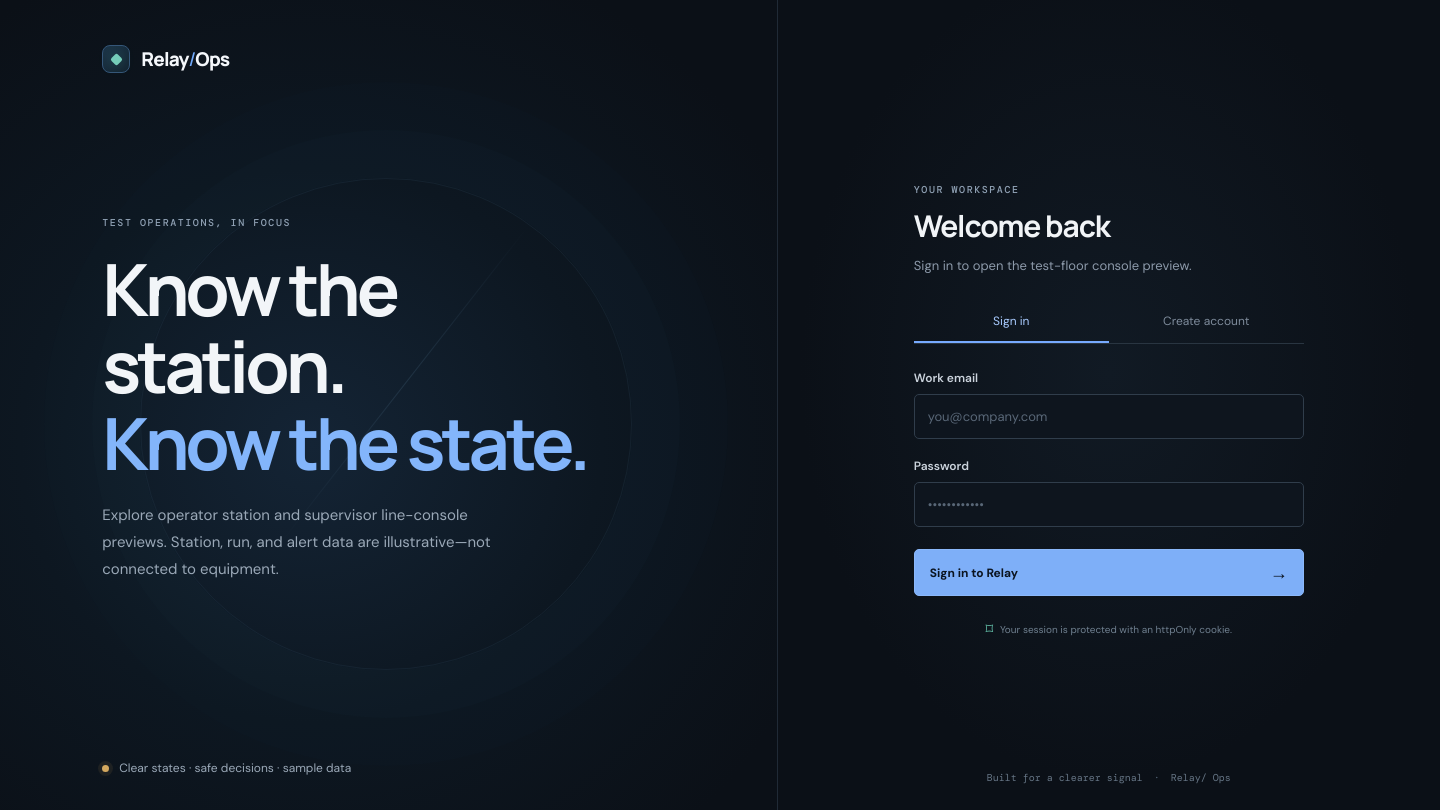
Test: shows deliberate login errors
In the field labelled "Work email": (1109, 416) [914,394,1304,439], type "ops@example.com"
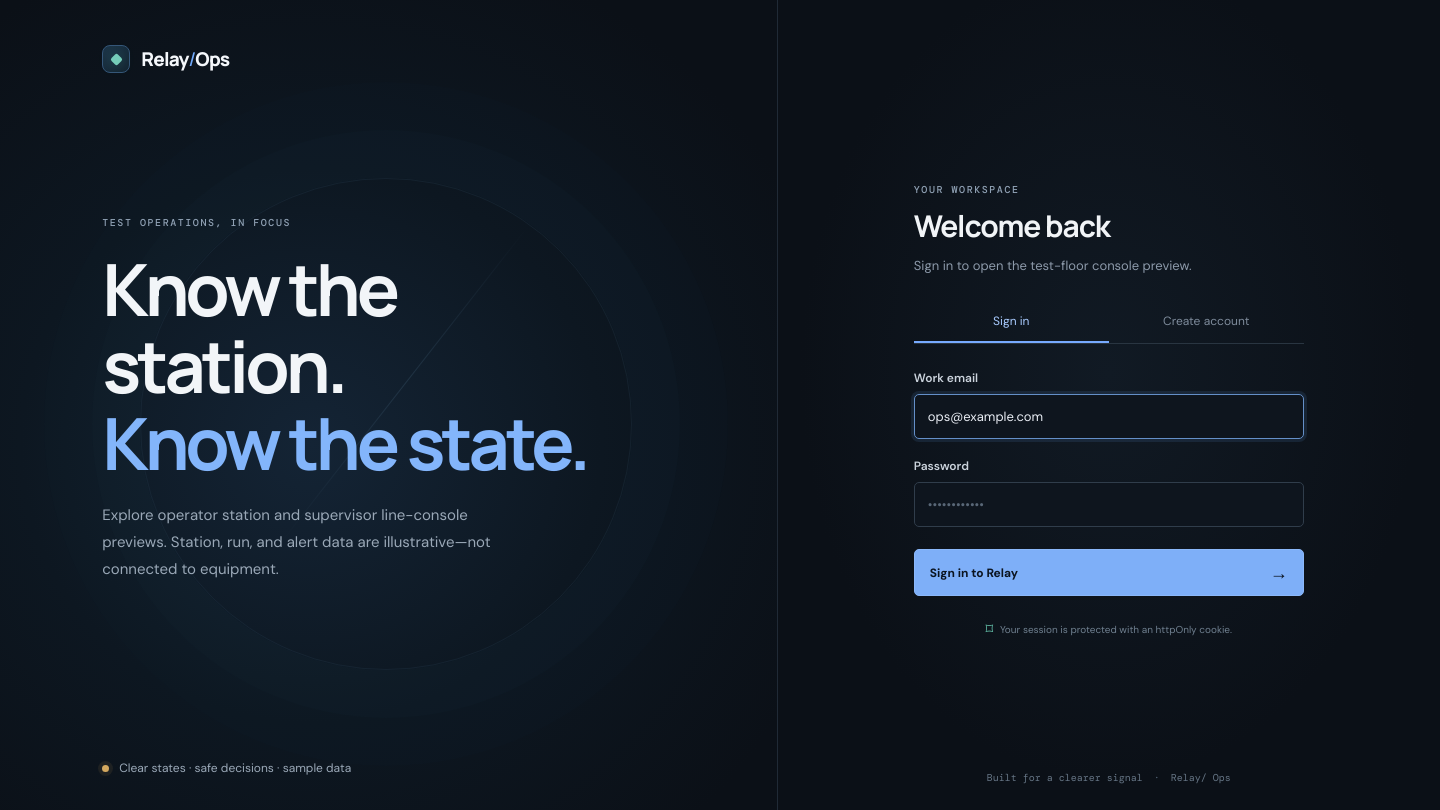
In the password field labelled "Password": (1109, 504) [914,482,1304,527], type "wrong-password"
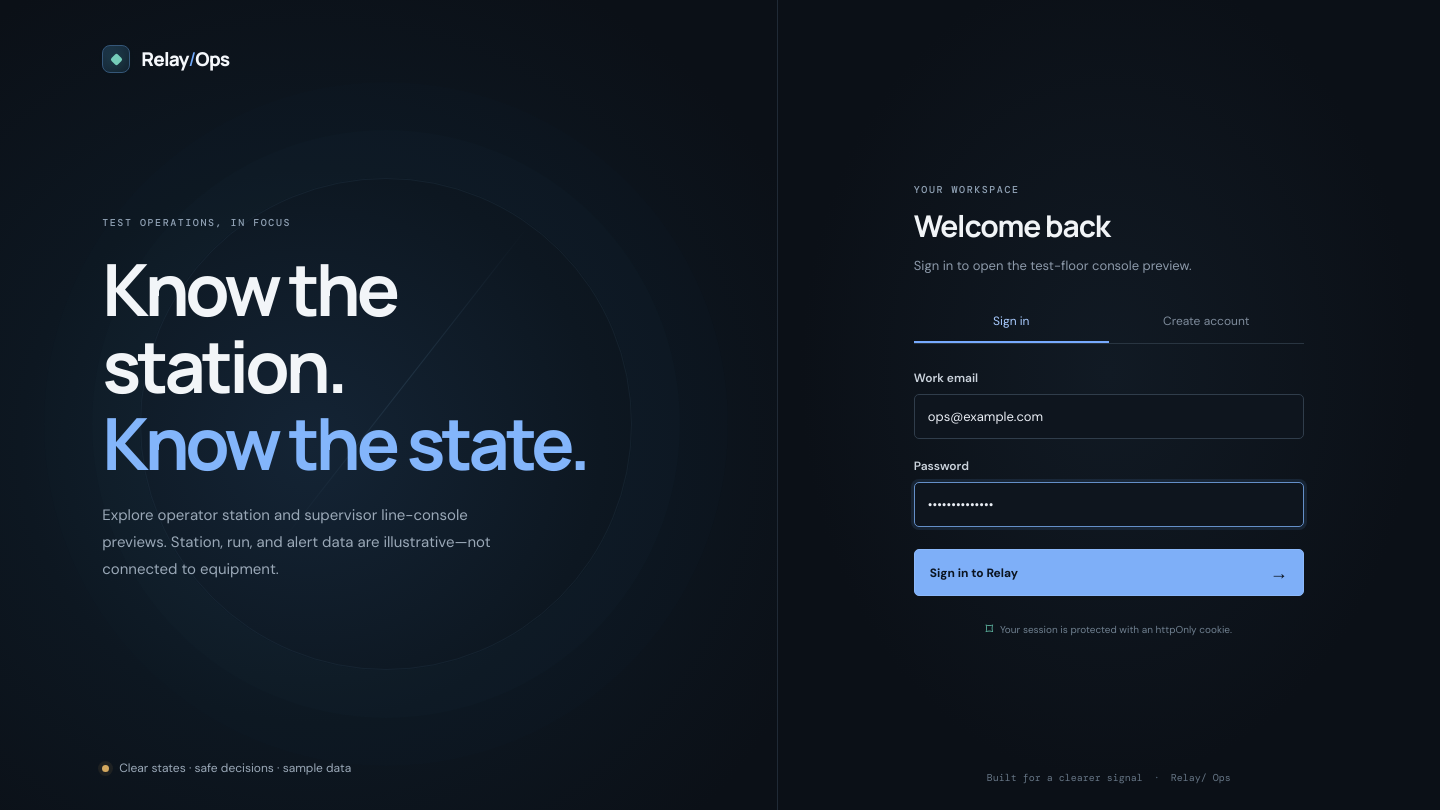
Click the button "Sign in to Relay →": (974, 572) [914,549,1304,596]
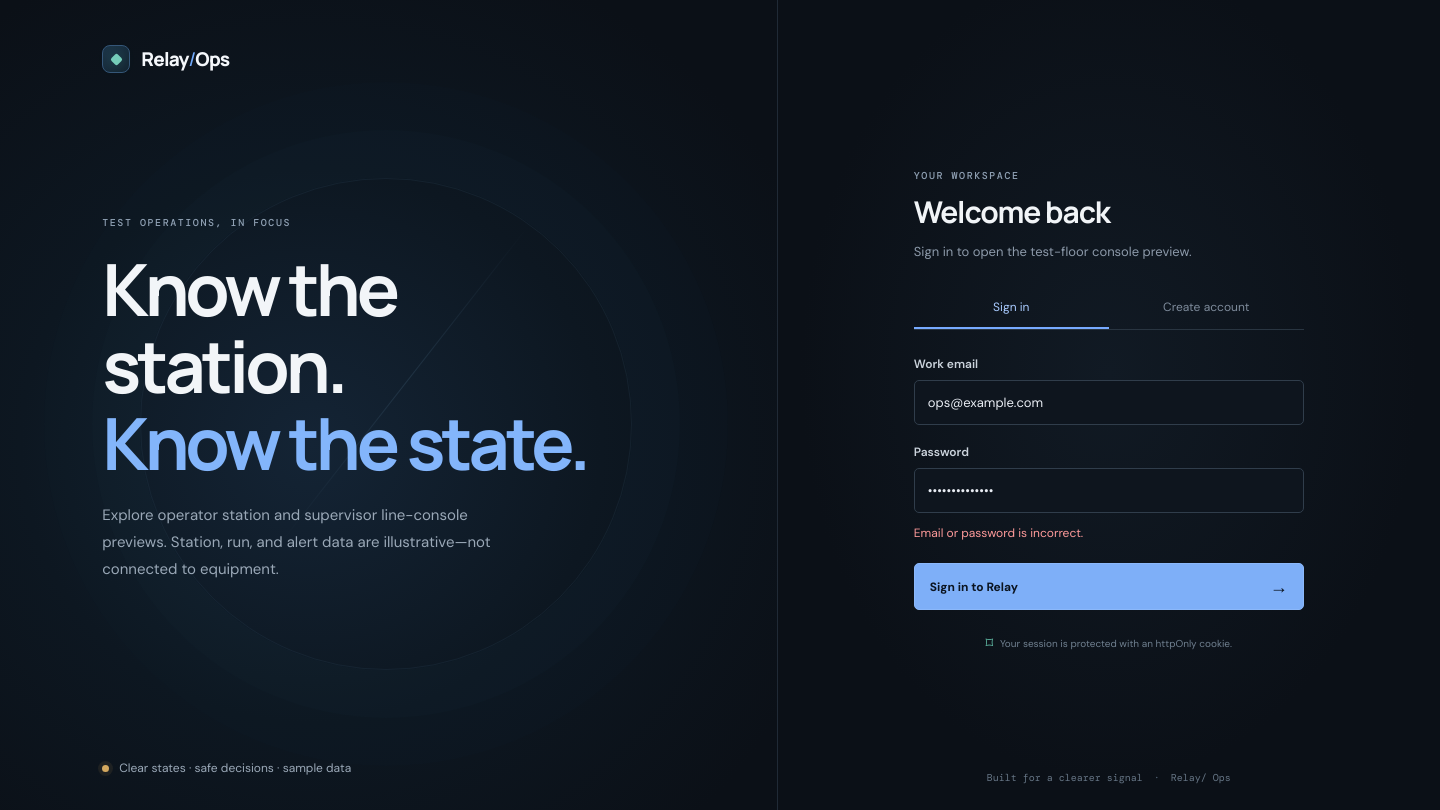
Check: the message shows "Email or password is incorrect", box [914,525,1083,541]
